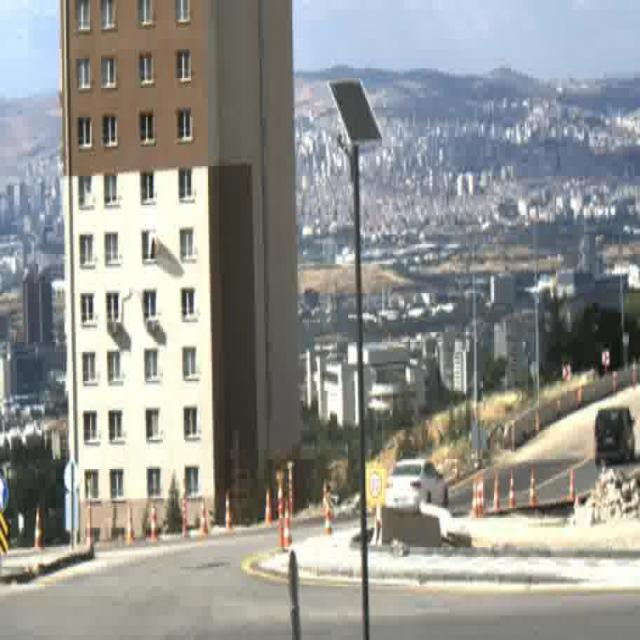Car: (382, 458, 450, 514), (593, 406, 636, 467)
